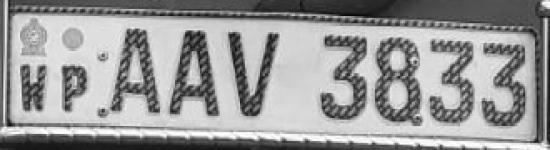3: (312, 29, 371, 127), (476, 35, 532, 134), (428, 31, 477, 132)
8: (372, 30, 427, 132)
A: (164, 22, 223, 127), (104, 22, 163, 120)
P: (56, 61, 92, 116)
V: (226, 27, 281, 124)
W: (18, 57, 51, 116)
